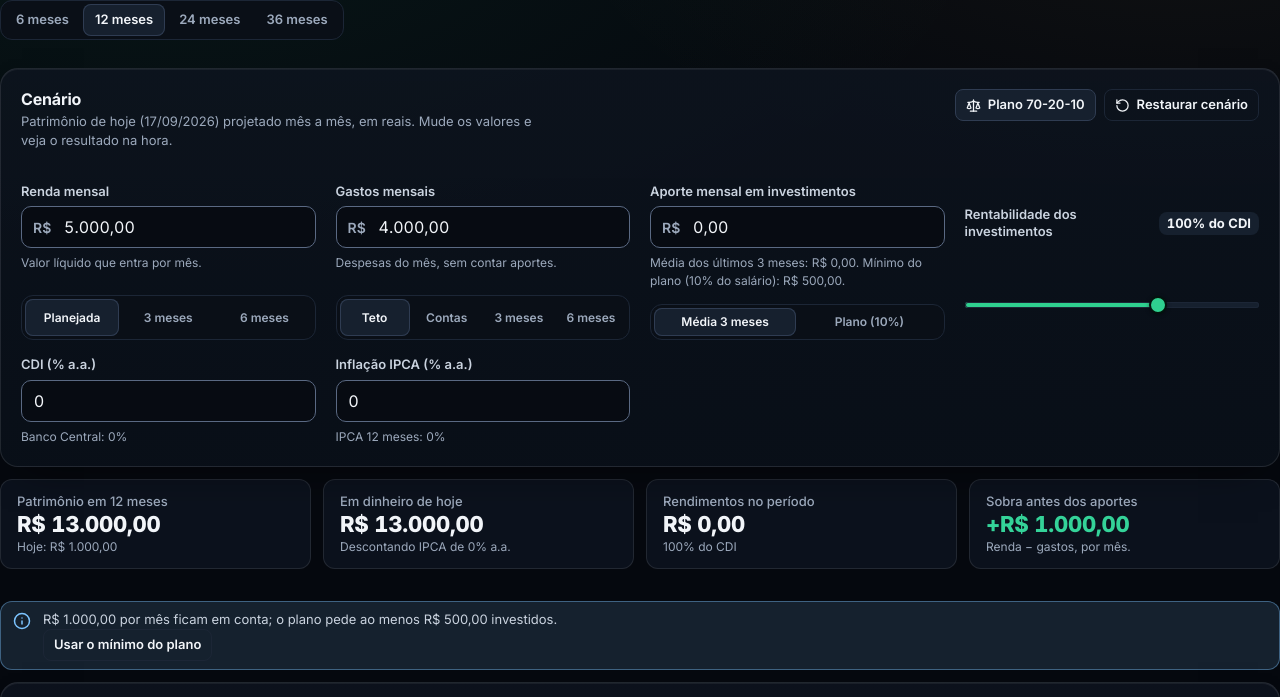
it: CR-04 e MEL-45 · marcos da reserva e do número da liberdade › com plano ativo diz quando o aporte fica abaixo do mínimo e oferece usá-lo (R3-PRJ-1)
Expected: the element named "Resultado da projeção" is shown, [0, 479, 1279, 569]
Click the button "Usar o mínimo do plano": (128, 645) [43, 629, 212, 661]
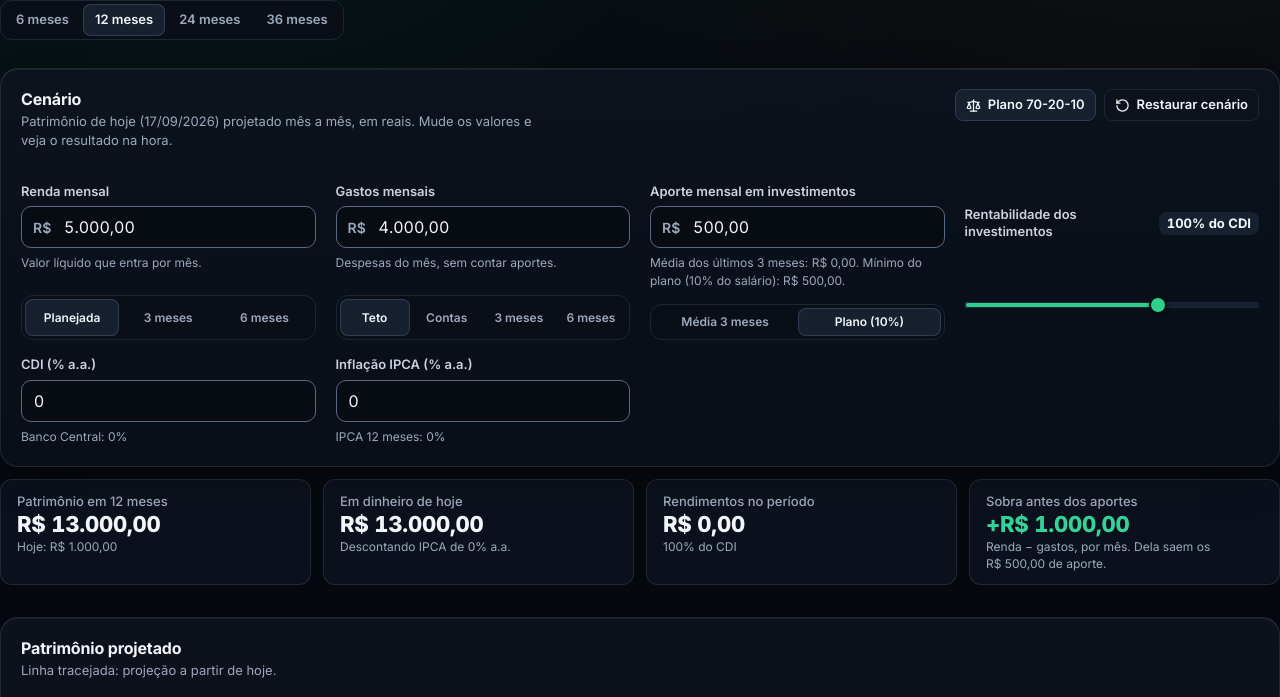
Result: the field labelled "Aporte mensal em investimentos" holds "500,00" at [650, 206, 944, 248]
Result: the button "Usar o mínimo do plano" is gone
